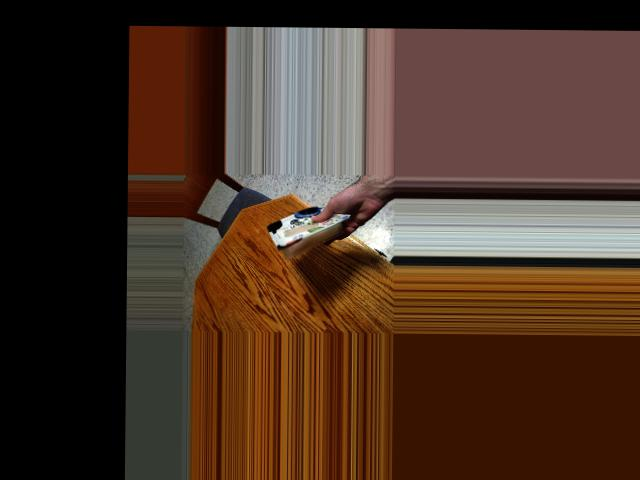cheese: (270, 193, 338, 257)
